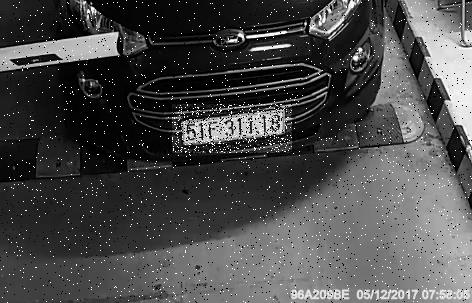License-plate: (173, 105, 293, 154)
